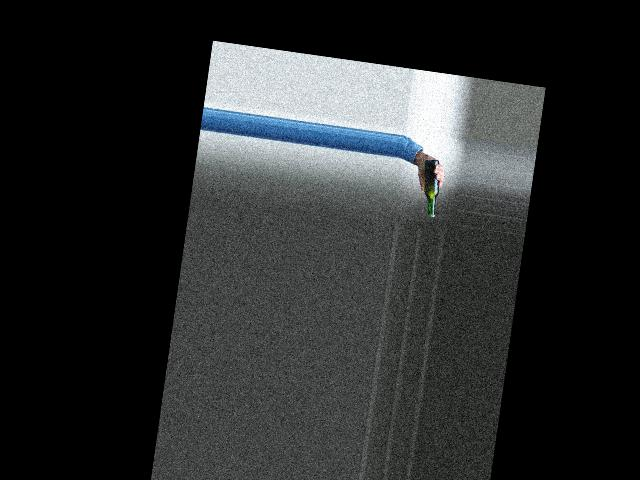beer: (416, 159, 443, 217)
